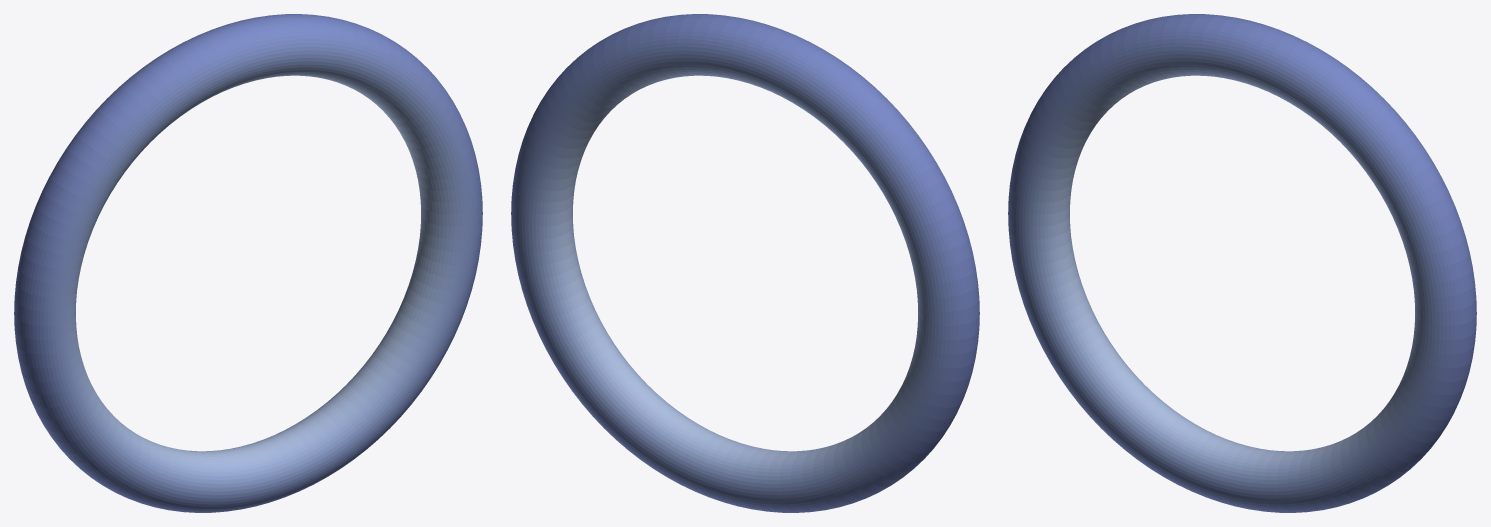
3 renders of one model, left to right at view 1: azimuth 30°, elevation 25°; view 2: azimuth 150°, elevation 25°; view 3: azimuth 330°, elevation 25°, orthographic.
Visible parts, largest first — view 1: world; view 2: world; view 3: world.
Boxes of the visible parts, x1,y1,x2,y2 form: world: (14,14,482,512); world: (511,14,979,512); world: (1008,14,1476,512).
Bounding box in the file's own units: 26.4 × 26.4 × 3.06.
